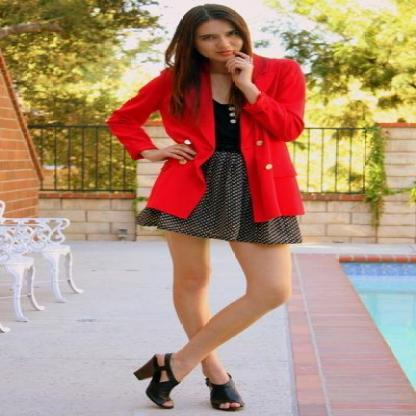dress: (137, 82, 302, 247)
jacket: (106, 58, 319, 221)
shoe: (133, 358, 243, 411)
